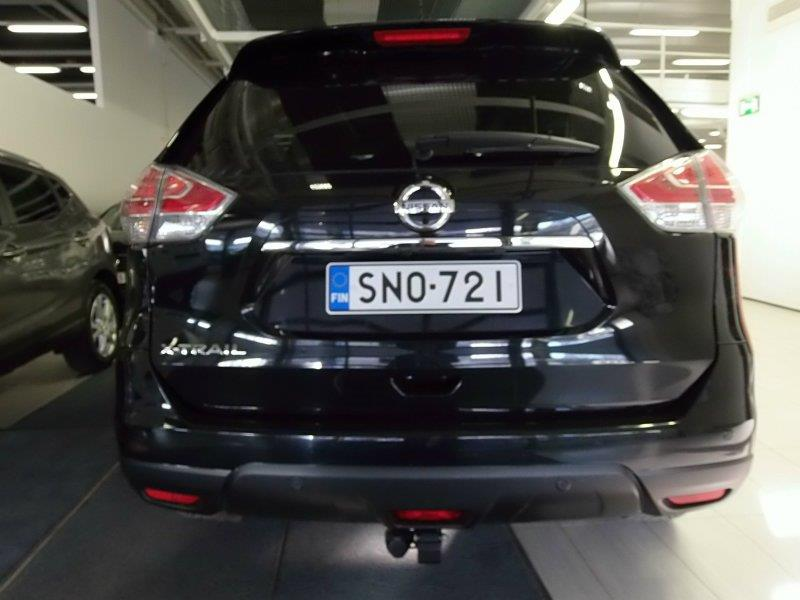license: (327, 260, 520, 314)
